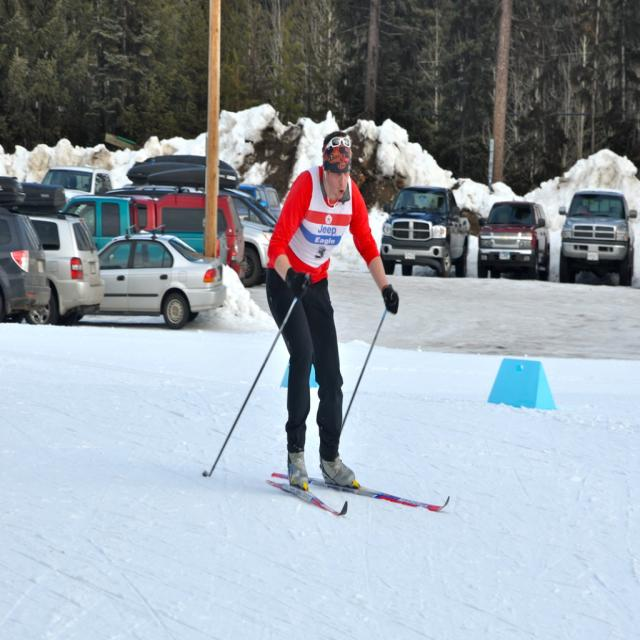car: (378, 175, 475, 277), (555, 189, 635, 289), (474, 194, 550, 281)
